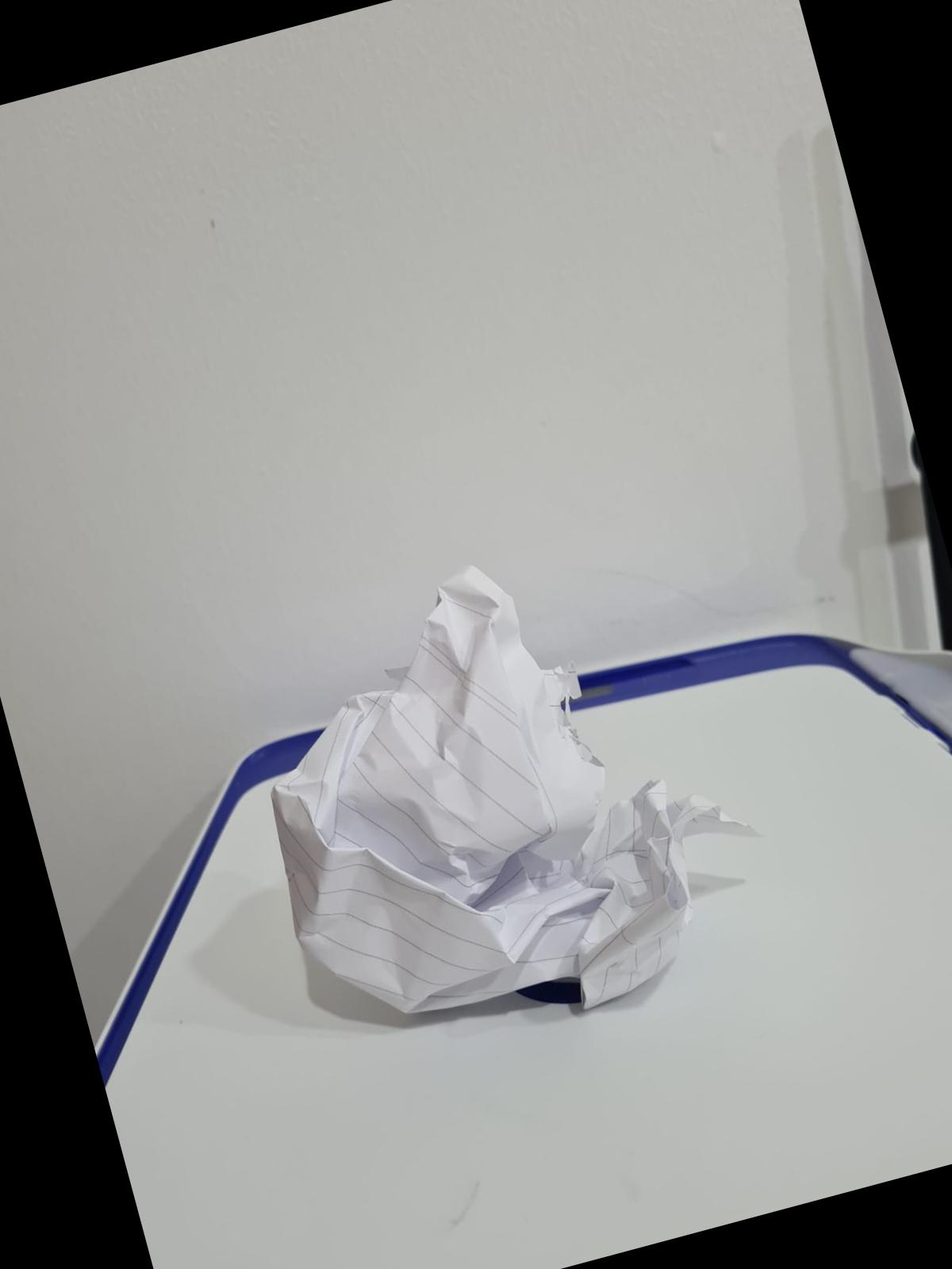Kertas: (272, 567, 738, 1013)
